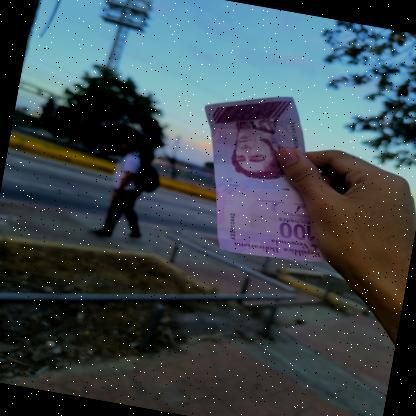one_hundred-front-vef: (179, 81, 353, 268)
